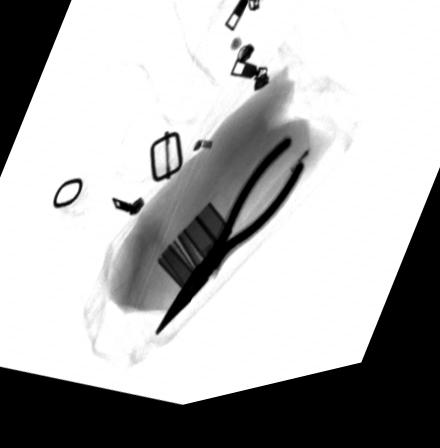Pliers: (154, 149, 306, 344)
